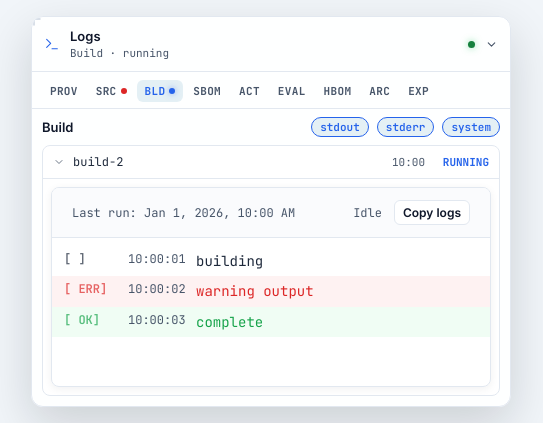
Test: RunHud › follows an active run, filters its streams, and exposes failed history
Expected: the text "building" is shown, top-left (196, 250), bottom-right (263, 272)
Click the button "stderr" at (406, 127), box top-left (377, 117), bottom-right (434, 137)
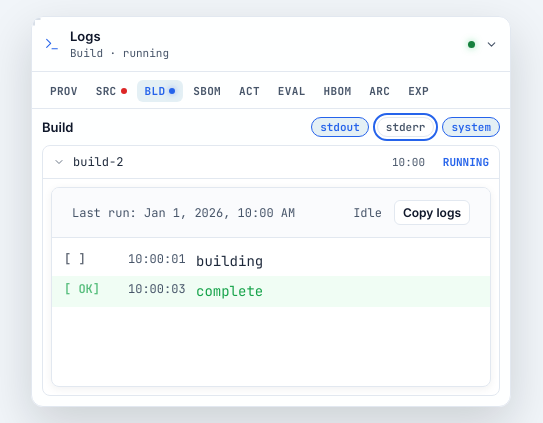
Expected: the text "warning output" is gone
Click the button "stdout" at (340, 127), box top-left (311, 117), bottom-right (369, 137)
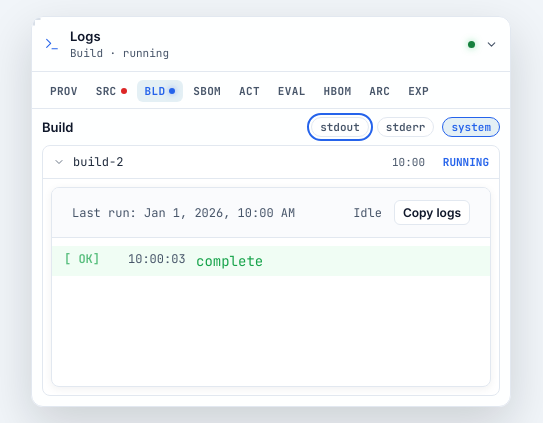
Click the button "system" at (471, 127), box top-left (442, 117), bottom-right (500, 137)
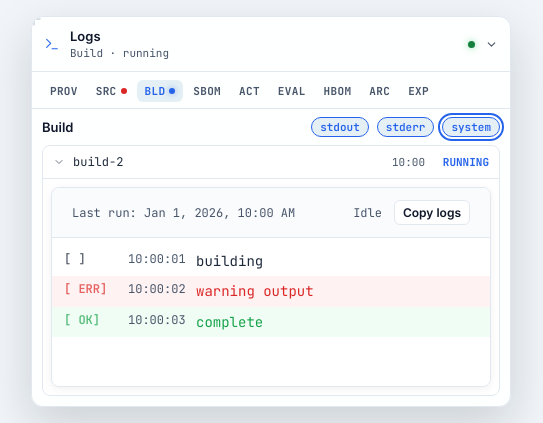
Expected: the text "warning output" is shown, top-left (196, 280), bottom-right (314, 303)
Click the tab with aria-label "Source" at (111, 91), box top-left (88, 80), bottom-right (134, 102)
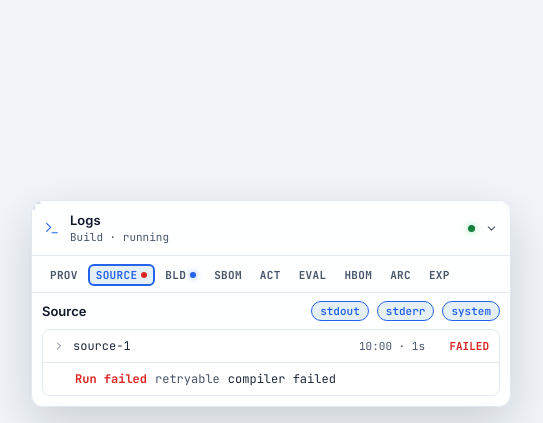
Expected: the message named "Run failed" is shown, top-left (449, 339), bottom-right (489, 353)
Expected: the text "compiler failed" is shown, top-left (228, 371), bottom-right (336, 387)
Expected: the text "retryable" is shown, top-left (155, 371), bottom-right (220, 387)
